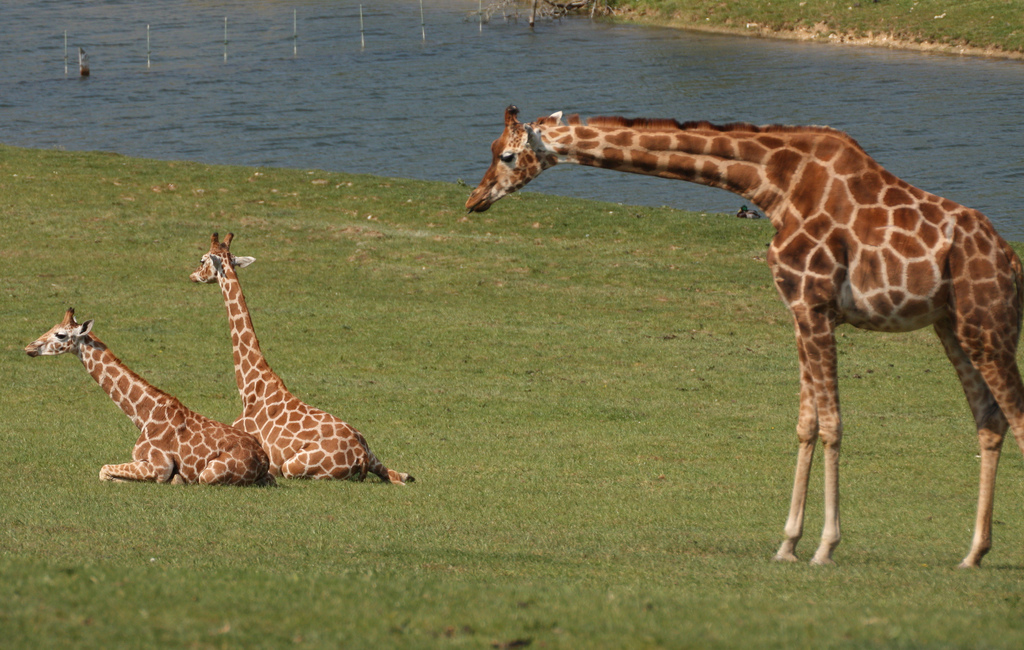giraffe: (476, 82, 1020, 575), (196, 209, 429, 510), (18, 322, 258, 489)
